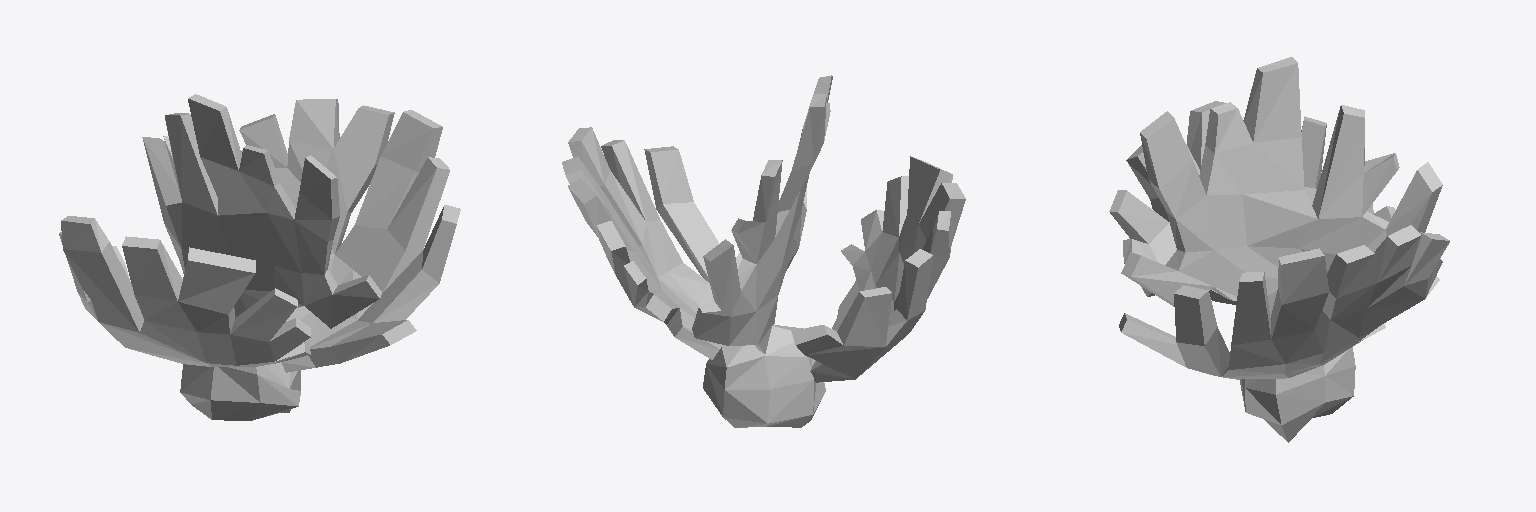
Rendered from Elkhorn_03_LOD3.obj.
3 views of the same model, side by side, from view 1: azimuth 30°, elevation 25°; view 2: azimuth 150°, elevation 25°; view 3: azimuth 270°, elevation 25° (orthographic).
Visible parts, largest first — view 1: Elkhorn_03_LOD3_Cube.556; view 2: Elkhorn_03_LOD3_Cube.556; view 3: Elkhorn_03_LOD3_Cube.556.
Boxes of the visible parts, box(x1,y1,x2,y2) form: Elkhorn_03_LOD3_Cube.556: box(59, 94, 460, 420); Elkhorn_03_LOD3_Cube.556: box(562, 75, 965, 427); Elkhorn_03_LOD3_Cube.556: box(1109, 57, 1449, 442).
Bounding box in the file's own units: 11.02 × 9.45 × 8.67.